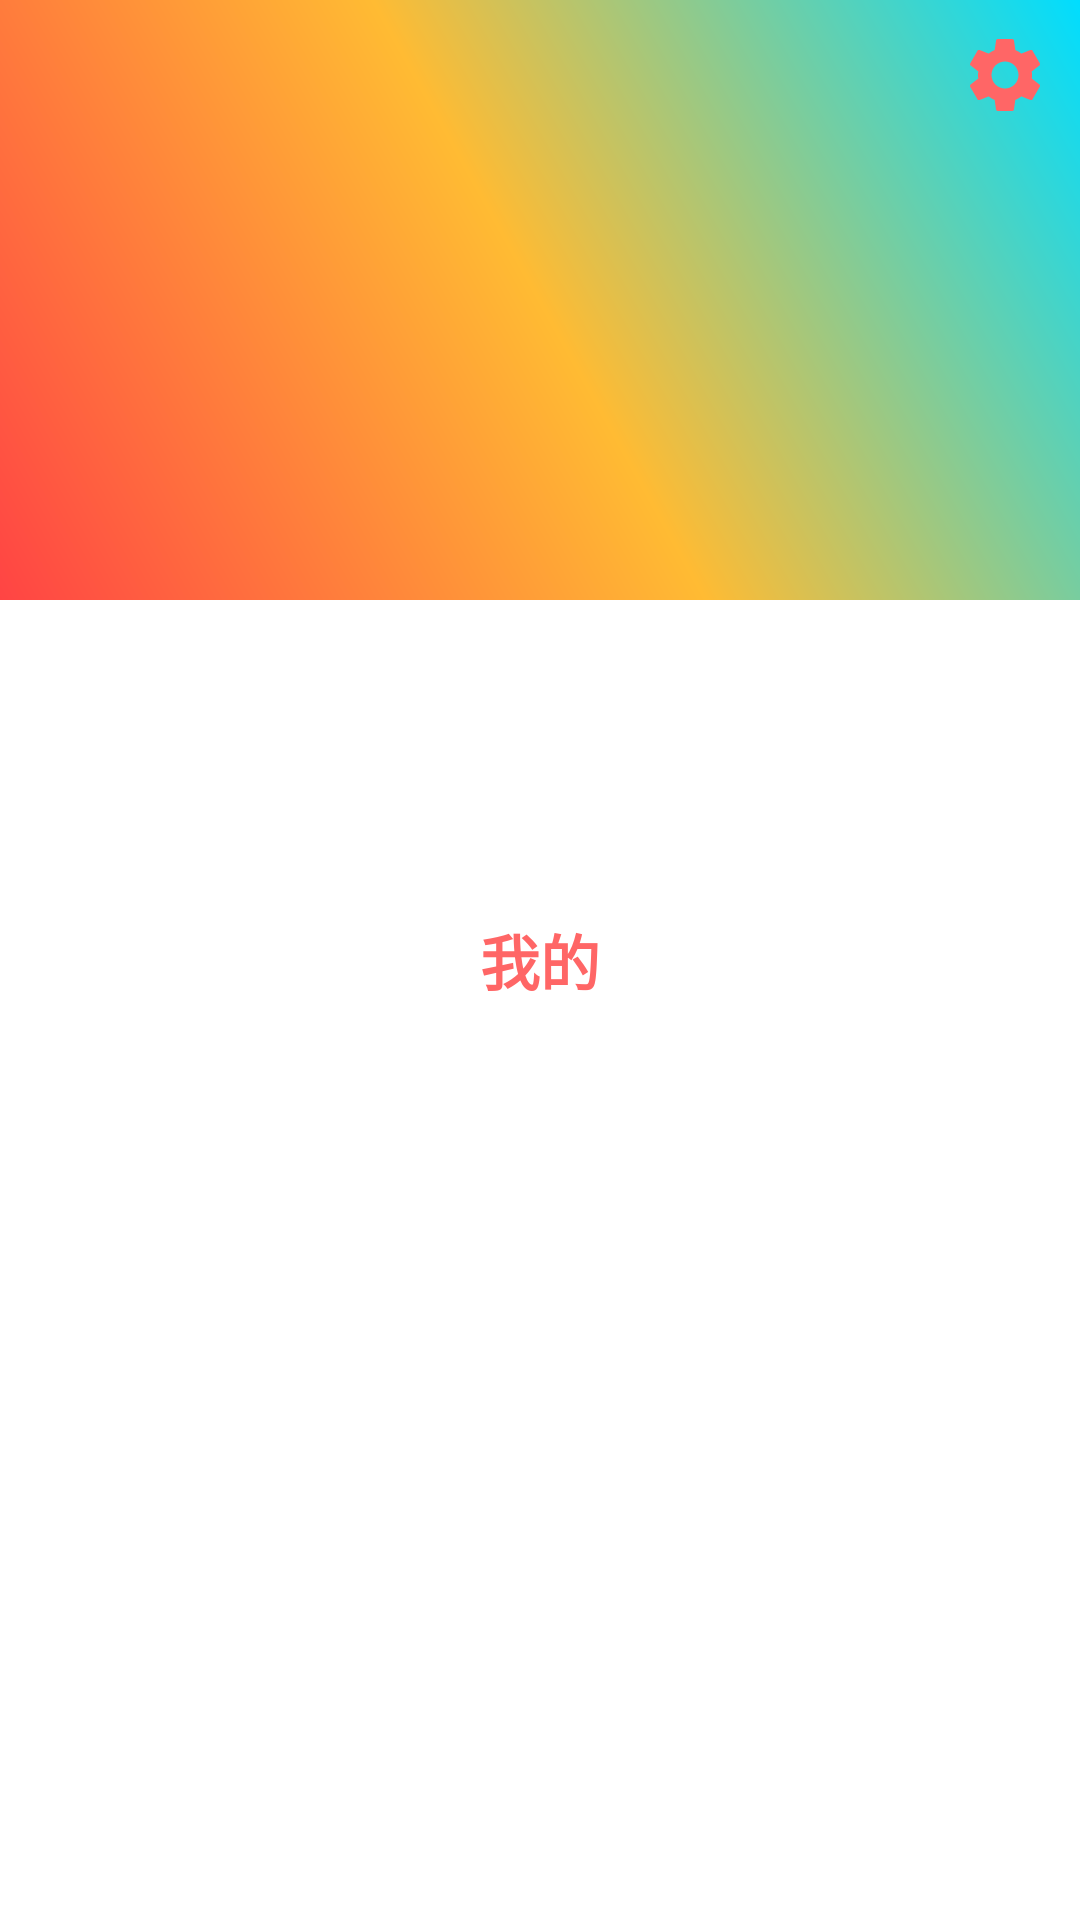

Icon bounding boxes for this 1080px x 1920px phone screenshot, format (x1, y1, x2, y2):
settings: (970, 39, 1040, 111)
